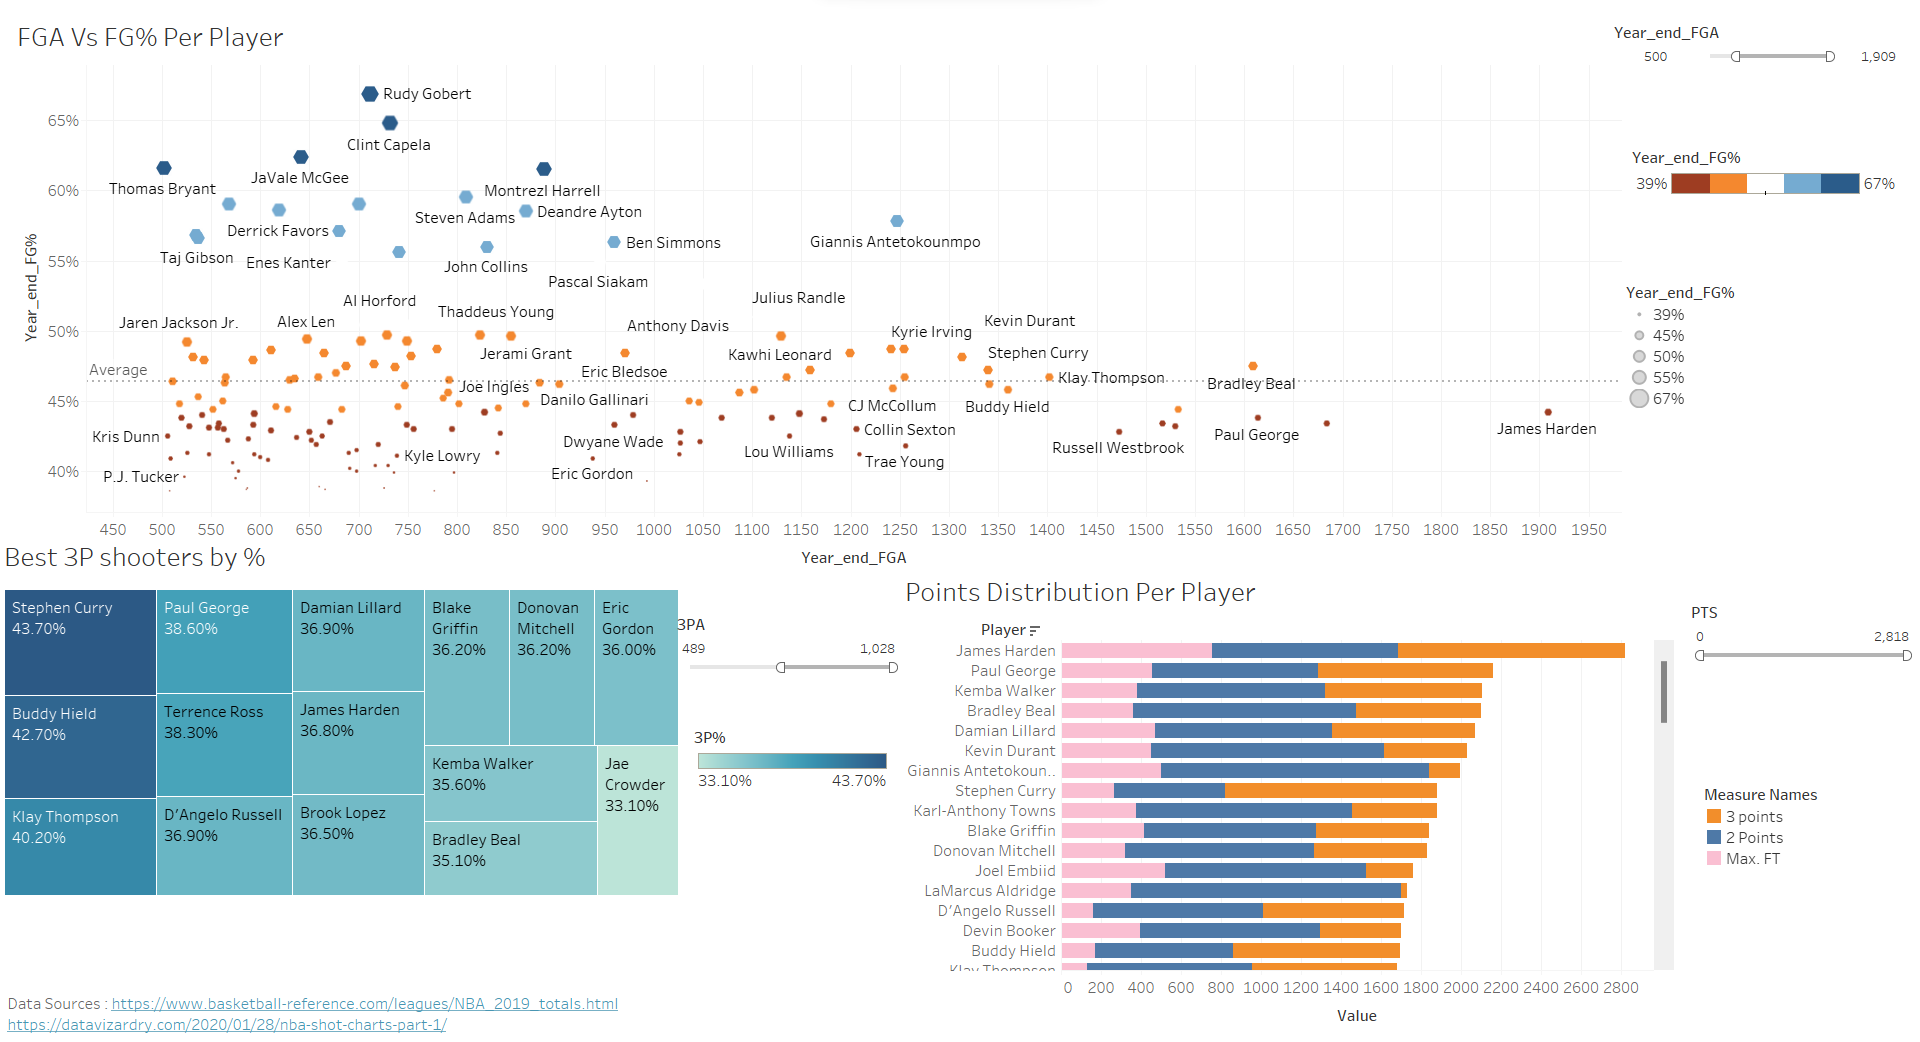

The dashboard page shown, as its layout file describes it:
{"tool":"tableau","page":{"name":"Dashboard 1","canvas":[1366,768],"ordinal":0},"visuals":[{"type":"worksheet","title":"FGA Vs FG% Per Player","mark":"Automatic","rows":["FG%"],"cols":["FGA"],"box":[9,11,1145,412]},{"type":"filter","title":"FGA Vs FG% Per Player","param":"[federated.1b1haxu0qu83q01ecfupu0ut27li].[attr:FGA:qk]","box":[1148,16,219,62]},{"type":"legend","title":"FGA Vs FG% Per Player","param":"[federated.1b1haxu0qu83q01ecfupu0ut27li].[none:FG%:qk]","box":[1161,108,191,84]},{"type":"legend","title":"FGA Vs FG% Per Player","param":"[federated.1b1haxu0qu83q01ecfupu0ut27li].[none:FG%:qk]","box":[1157,208,191,122]},{"type":"worksheet","title":"Best 3P shooters by %","mark":"Automatic","box":[0,394,485,323]},{"type":"worksheet","title":"Points Distribution Per Player","mark":"Automatic","rows":["Player"],"box":[641,420,550,341]},{"type":"filter","title":"Points Distribution Per Player","param":"[federated.1b1haxu0qu83q01ecfupu0ut27li].[attr:PTS:qk]","box":[1203,443,160,65]},{"type":"filter","title":"Best 3P shooters by %","param":"[federated.1b1haxu0qu83q01ecfupu0ut27li].[attr:3PA:qk]","box":[482,452,160,65]},{"type":"legend","title":"Best 3P shooters by %","param":"[federated.1b1haxu0qu83q01ecfupu0ut27li].[attr:3P%:qk]","box":[494,535,140,88]},{"type":"legend","title":"Points Distribution Per Player","param":"[federated.1b1haxu0qu83q01ecfupu0ut27li].[:Measure Names]","box":[1212,577,140,85]},{"type":"text","box":[3,725,809,42]}]}

Visuals, with their boxes on the page's 1366x768 design canvas (x1, y1, x2, y2). These are canvas units, not pixel positions in the 1920x1042 screenshot, which may show the page scaled, cropped or inside an application window:
"FGA Vs FG% Per Player" worksheet: x1=9 y1=11 x2=1154 y2=423
"FGA Vs FG% Per Player" filter: x1=1148 y1=16 x2=1367 y2=78
"FGA Vs FG% Per Player" legend: x1=1161 y1=108 x2=1352 y2=192
"FGA Vs FG% Per Player" legend: x1=1157 y1=208 x2=1348 y2=330
"Best 3P shooters by %" worksheet: x1=0 y1=394 x2=485 y2=717
"Points Distribution Per Player" worksheet: x1=641 y1=420 x2=1191 y2=761
"Points Distribution Per Player" filter: x1=1203 y1=443 x2=1363 y2=508
"Best 3P shooters by %" filter: x1=482 y1=452 x2=642 y2=517
"Best 3P shooters by %" legend: x1=494 y1=535 x2=634 y2=623
"Points Distribution Per Player" legend: x1=1212 y1=577 x2=1352 y2=662
text: x1=3 y1=725 x2=812 y2=767
